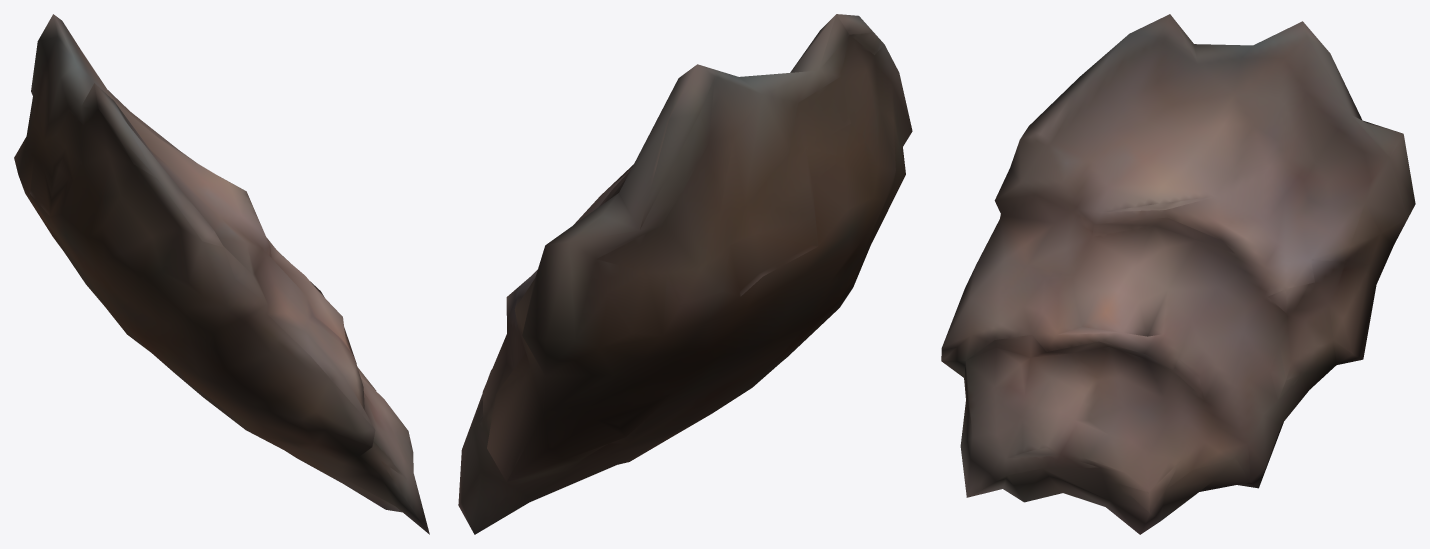
File: ironshell_plate.glb
3 views of the same model, side by side, from view 1: azimuth 30°, elevation 25°; view 2: azimuth 150°, elevation 25°; view 3: azimuth 270°, elevation 25° (orthographic). The views are drawn at different scales.
Visible parts, largest first — view 1: model; view 2: model; view 3: model.
Boxes of the visible parts, left/top/right/bottom form: model: left=14, top=14, right=429, bottom=534; model: left=458, top=14, right=912, bottom=534; model: left=941, top=14, right=1415, bottom=534.
Size of the model in its own units: 0.2589 by 0.3816 by 0.401.
Materials: 1 (1 with a texture image).
